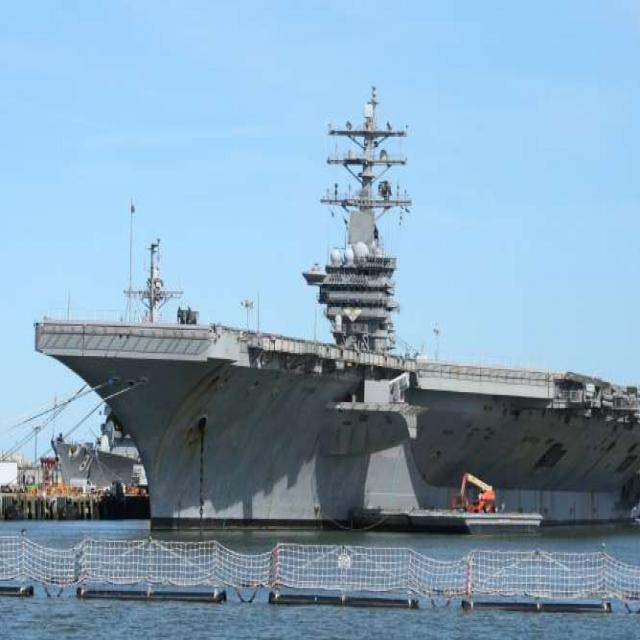Portanaves: (29, 63, 640, 539)
